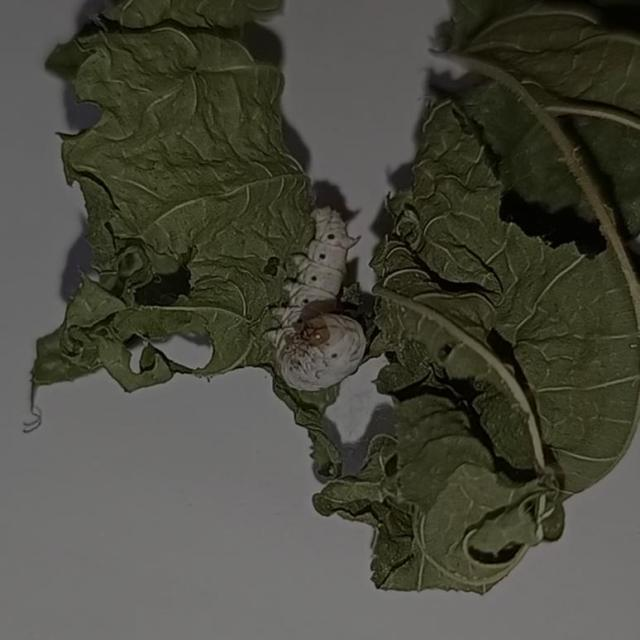Healthy: (220, 168, 406, 426)
